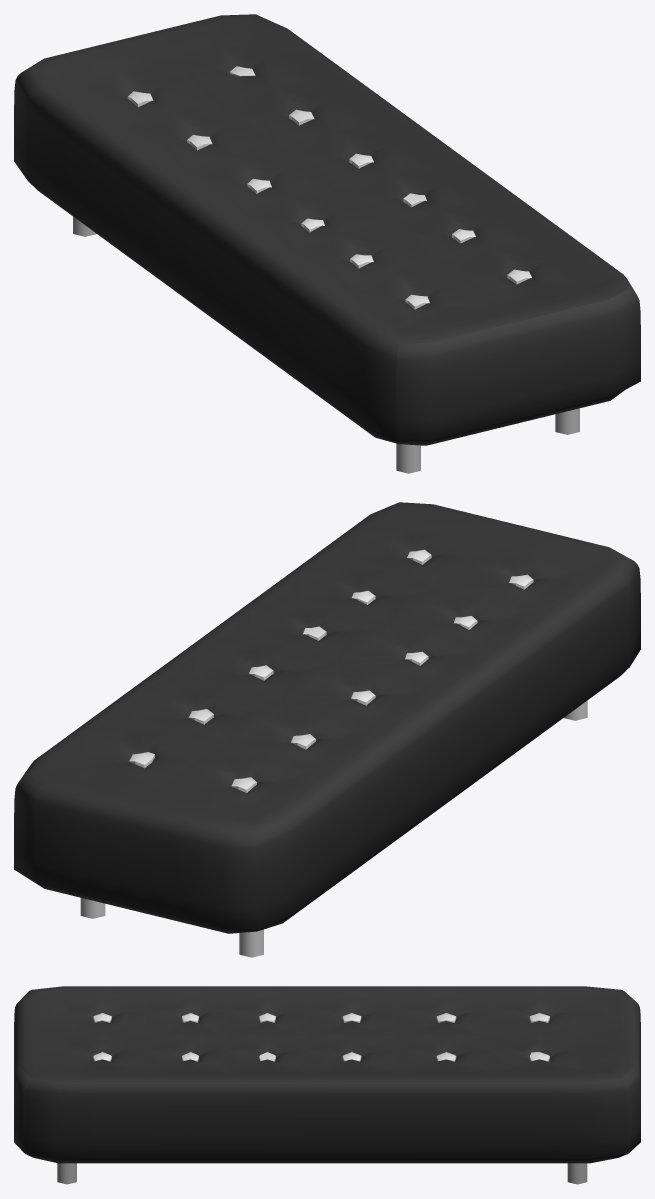
Rendered from Seat_OBJ.fbx.
3 views of the same model, one above another, from view 1: azimuth 30°, elevation 25°; view 2: azimuth 150°, elevation 25°; view 3: azimuth 270°, elevation 25° (orthographic). The views are drawn at different scales.
Visible parts, largest first — view 1: pCylinder5; view 2: pCylinder5; view 3: pCylinder5.
Part boxes in pixels (<box>): pCylinder5: <box>14,14,640,473</box>; pCylinder5: <box>14,502,640,957</box>; pCylinder5: <box>14,986,640,1184</box>.
Bounding box in the file's own units: 2.5 × 1.36 × 6.5.
